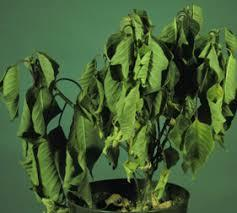root_rot: (6, 21, 237, 205)
